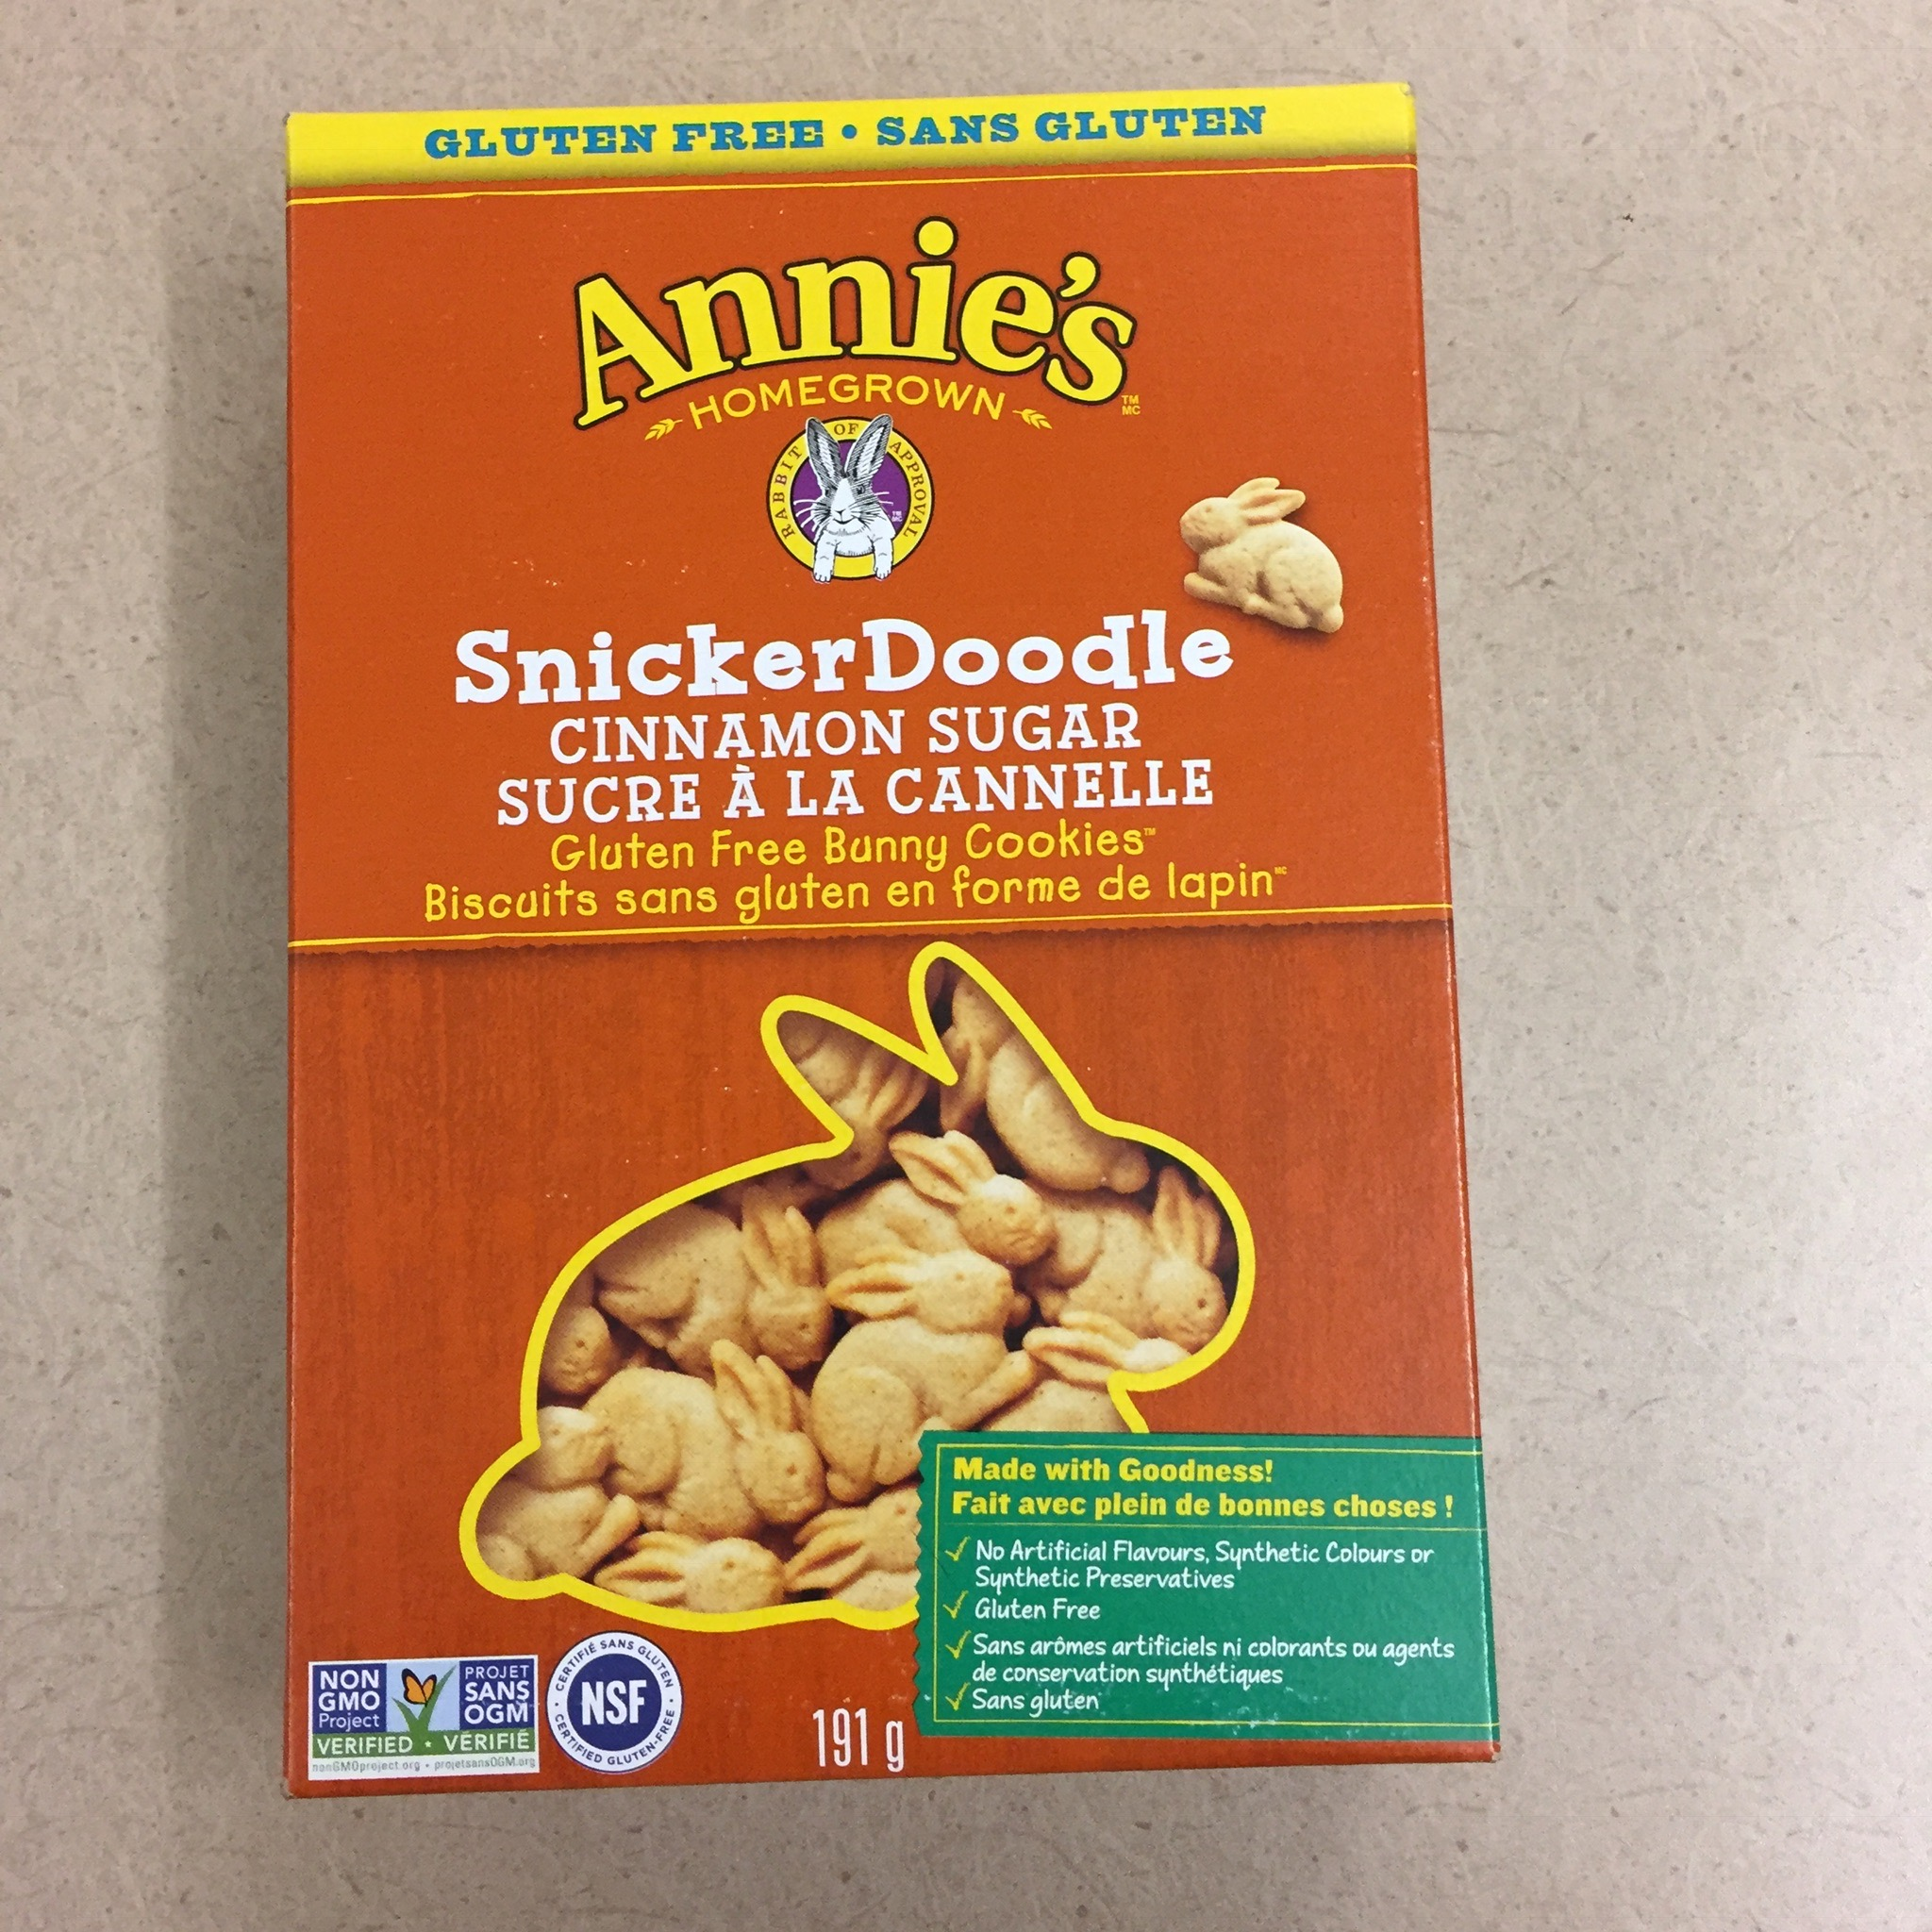annies_snickerdoodle_cinnamon_sugar: (278, 74, 1504, 1808)
